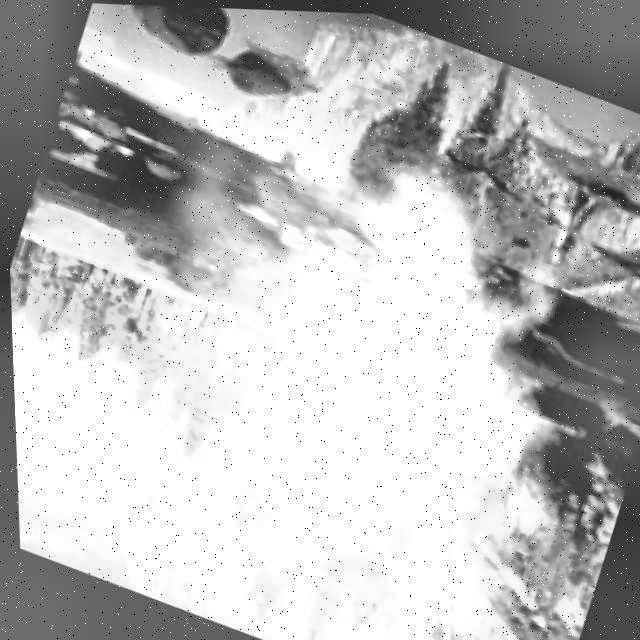Smoke: (213, 251, 549, 580)
